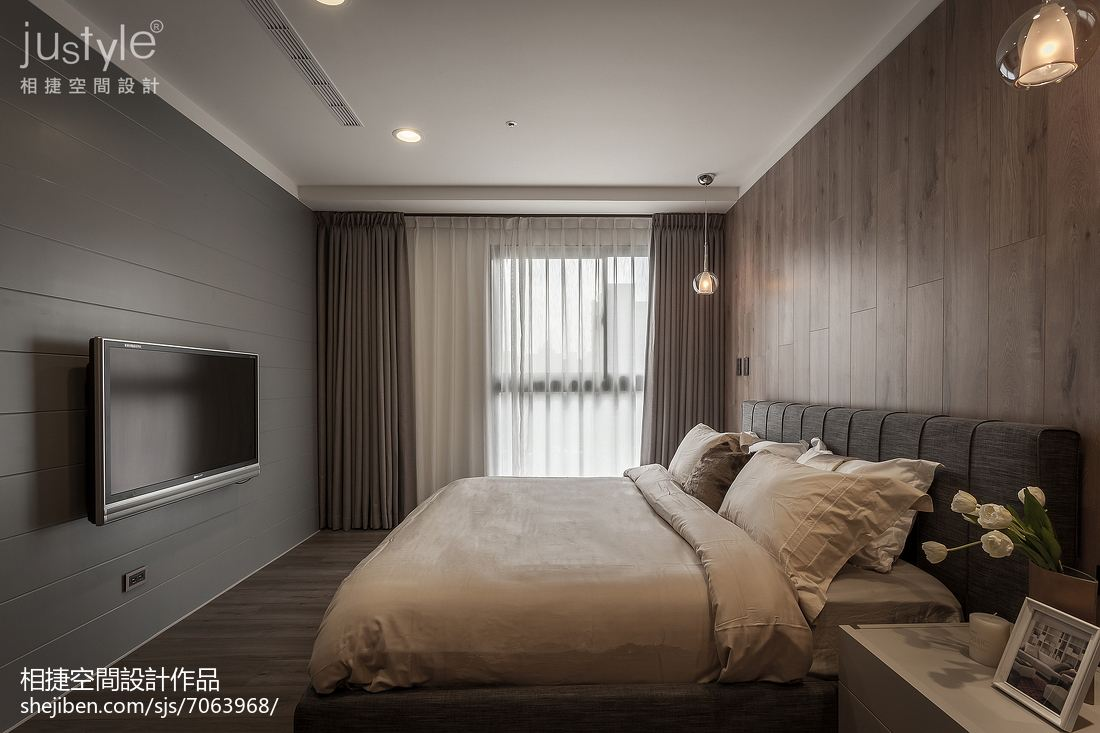床: (311, 455, 931, 704)
枕头: (662, 434, 934, 582)
灯: (988, 6, 1083, 90), (688, 170, 723, 302), (387, 126, 421, 150), (497, 116, 519, 134)
